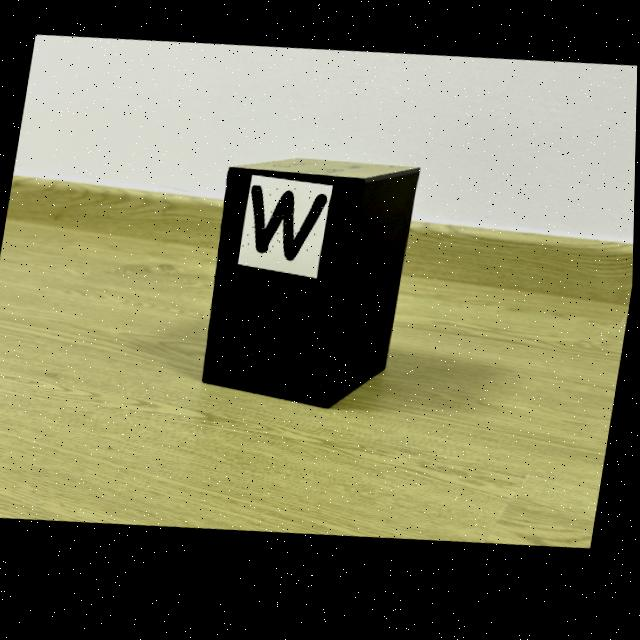W: (252, 191, 328, 265)
